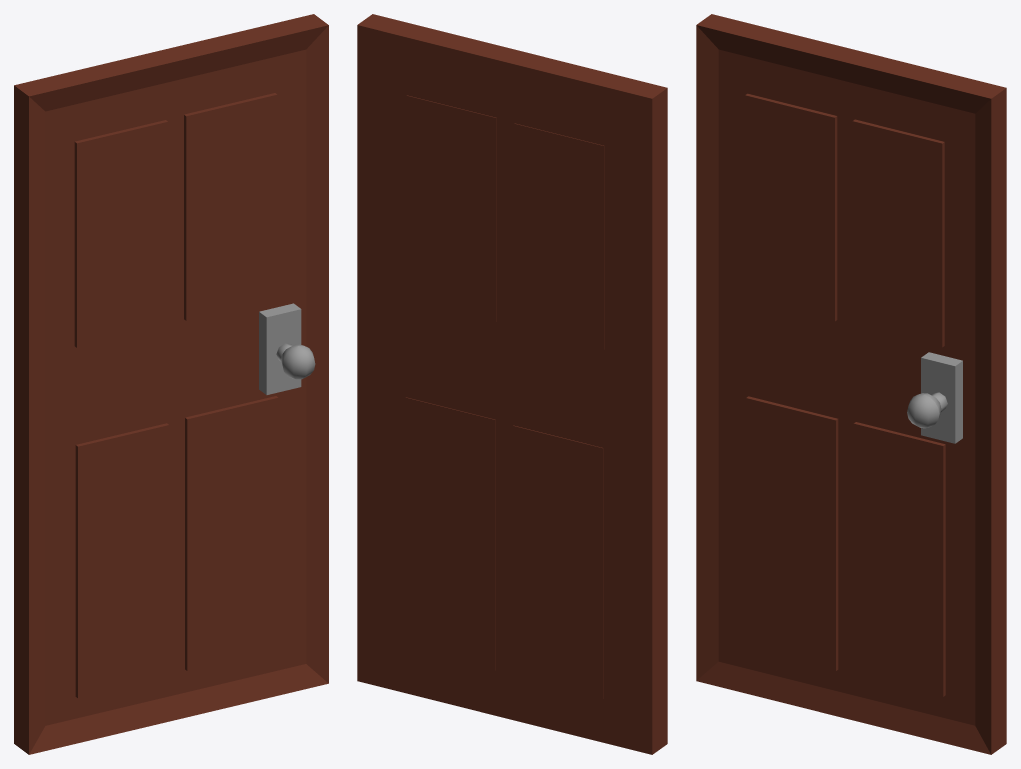
Rendered from door.glb.
3 renders of one model, left to right at view 1: azimuth 30°, elevation 25°; view 2: azimuth 150°, elevation 25°; view 3: azimuth 330°, elevation 25°, orthographic.
Visible parts, largest first — view 1: door; view 2: door; view 3: door.
Part boxes in pixels (x1,y1,x2,y2): door: (14, 14, 328, 754); door: (357, 14, 667, 754); door: (696, 14, 1006, 754).
Size of the model in its own units: 1.36 by 2.87 by 0.351.
